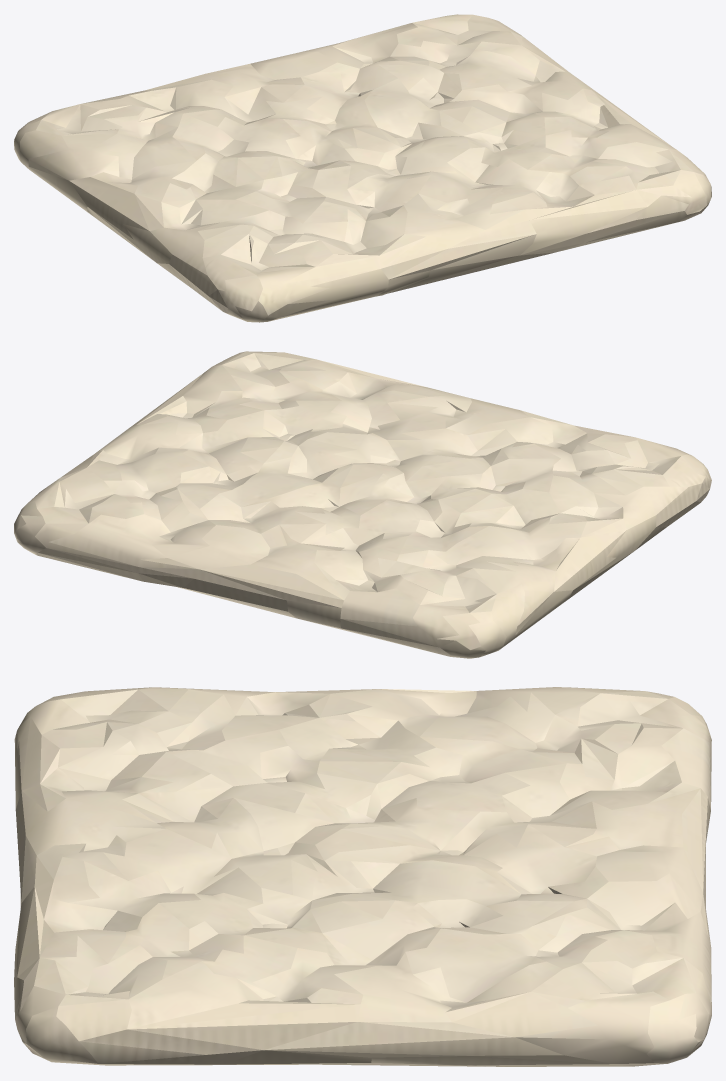
File: bath_rug.glb
The picture shows the model from 3 angles, top to bottom: view 1: azimuth 30°, elevation 25°; view 2: azimuth 150°, elevation 25°; view 3: azimuth 270°, elevation 25°; orthographic projection. The views are drawn at different scales.
Size of the model in its own units: 1.9 by 0.1903 by 1.65.
1 material, 1 textured.
